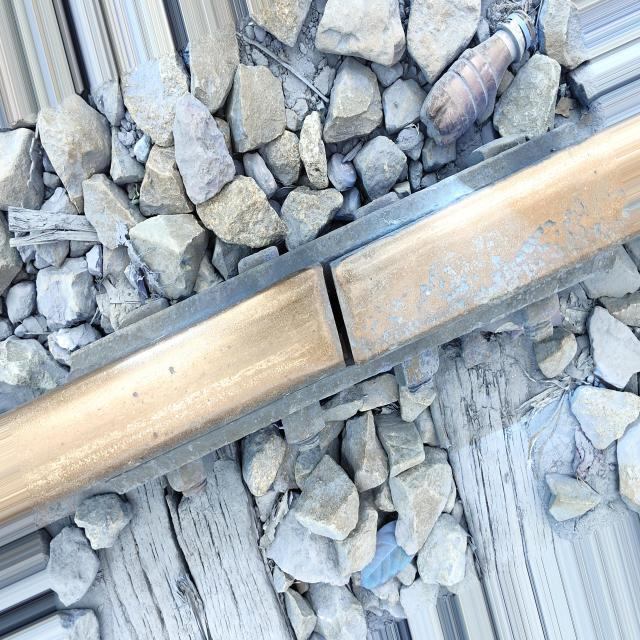Good Joint: (71, 117, 619, 537)
